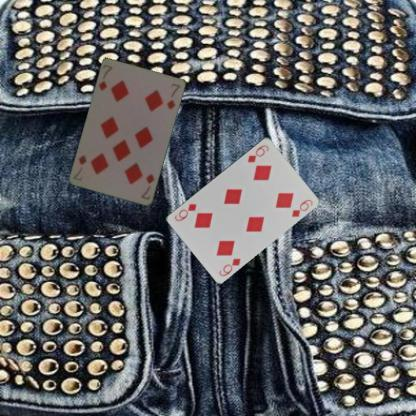6d: (245, 142, 270, 164), (217, 256, 242, 278)
7d: (96, 63, 114, 92), (139, 172, 156, 202)
